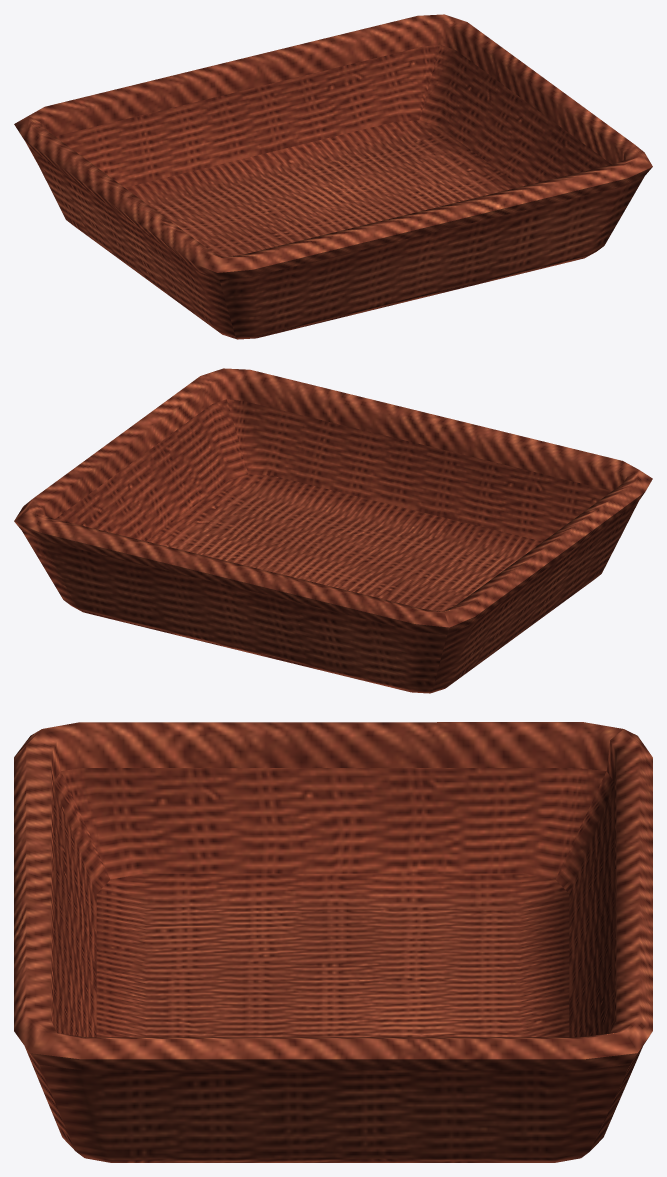
File: Basket_Tray.fbx
3 views of the same model, one above another, from view 1: azimuth 30°, elevation 25°; view 2: azimuth 150°, elevation 25°; view 3: azimuth 270°, elevation 25° (orthographic). The views are drawn at different scales.
Visible parts, largest first — view 1: Basket_Tray_01; view 2: Basket_Tray_01; view 3: Basket_Tray_01.
Part boxes in pixels (box(x1,y1,x2,y2)): Basket_Tray_01: box(14, 14, 652, 339); Basket_Tray_01: box(14, 368, 652, 693); Basket_Tray_01: box(14, 722, 652, 1162).
Size of the model in its own units: 132 by 27.47 by 108.
